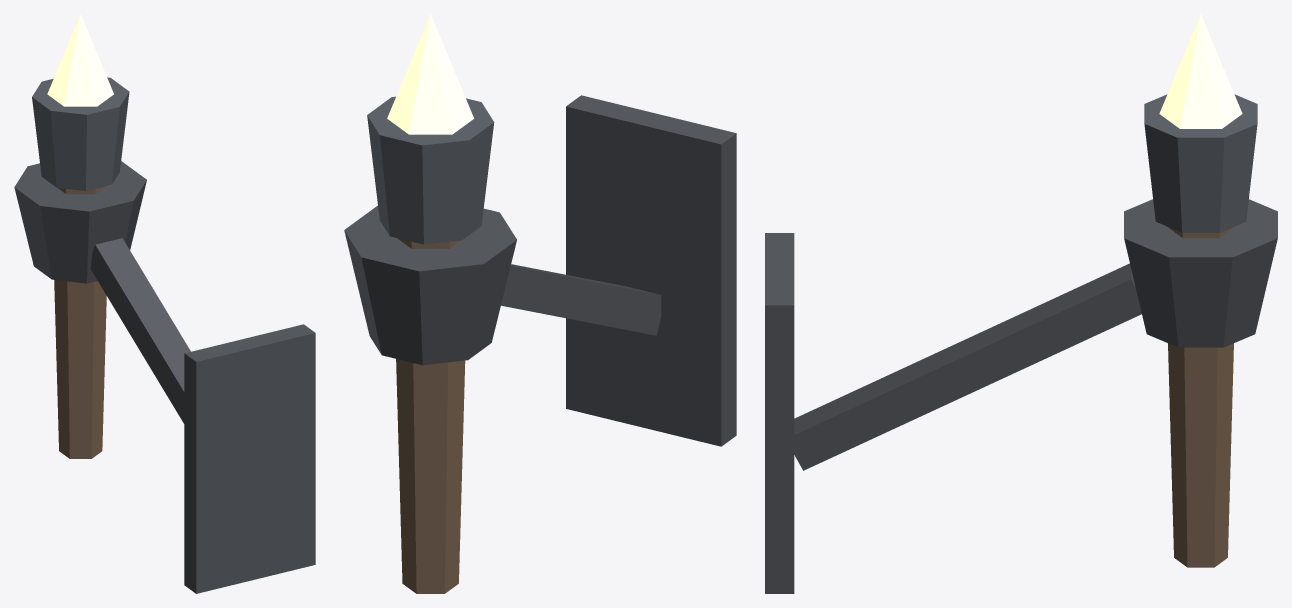
File: Prop_WallTorchSconce.fbx
The picture shows the model from 3 angles, left to right: view 1: azimuth 30°, elevation 25°; view 2: azimuth 150°, elevation 25°; view 3: azimuth 270°, elevation 25°; orthographic projection. The views are drawn at different scales.
Parts seen in each view (by area): view 1: Prop_WallTorchSconce_Iron, Prop_WallTorchSconce_Timber, Prop_WallTorchSconce_Mortar, Prop_WallTorchSconce_Glow; view 2: Prop_WallTorchSconce_Iron, Prop_WallTorchSconce_Timber, Prop_WallTorchSconce_Mortar, Prop_WallTorchSconce_Glow; view 3: Prop_WallTorchSconce_Iron, Prop_WallTorchSconce_Timber, Prop_WallTorchSconce_Mortar, Prop_WallTorchSconce_Glow.
Boxes of the visible parts, left/top/right/bottom form: Prop_WallTorchSconce_Iron: left=14, top=161, right=315, bottom=593; Prop_WallTorchSconce_Timber: left=54, top=186, right=106, bottom=458; Prop_WallTorchSconce_Mortar: left=32, top=77, right=129, bottom=190; Prop_WallTorchSconce_Glow: left=47, top=14, right=113, bottom=106; Prop_WallTorchSconce_Iron: left=344, top=95, right=736, bottom=446; Prop_WallTorchSconce_Timber: left=396, top=238, right=465, bottom=593; Prop_WallTorchSconce_Mortar: left=367, top=96, right=494, bottom=244; Prop_WallTorchSconce_Glow: left=387, top=14, right=473, bottom=134; Prop_WallTorchSconce_Iron: left=765, top=199, right=1277, bottom=593; Prop_WallTorchSconce_Timber: left=1167, top=226, right=1234, bottom=567; Prop_WallTorchSconce_Mortar: left=1144, top=94, right=1257, bottom=232; Prop_WallTorchSconce_Glow: left=1159, top=14, right=1242, bottom=128.
Size of the model in its own units: 0.7 by 2.45 by 2.09.
